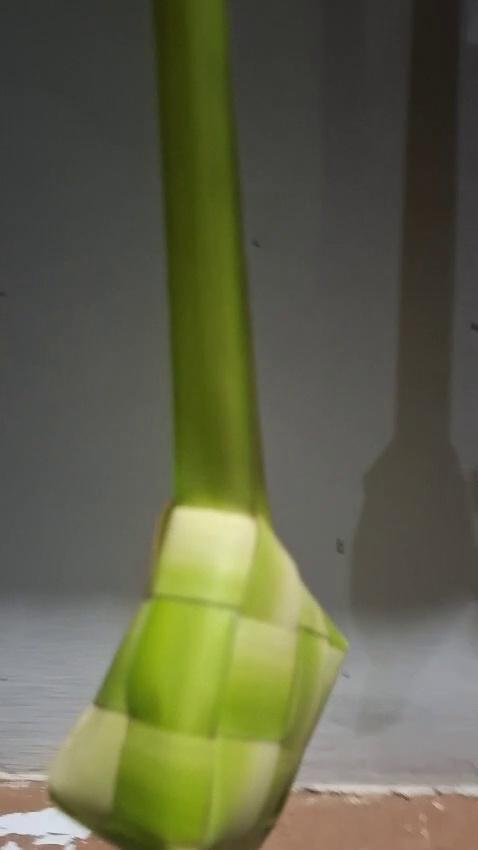Tipat Nasi: (41, 487, 358, 846)
